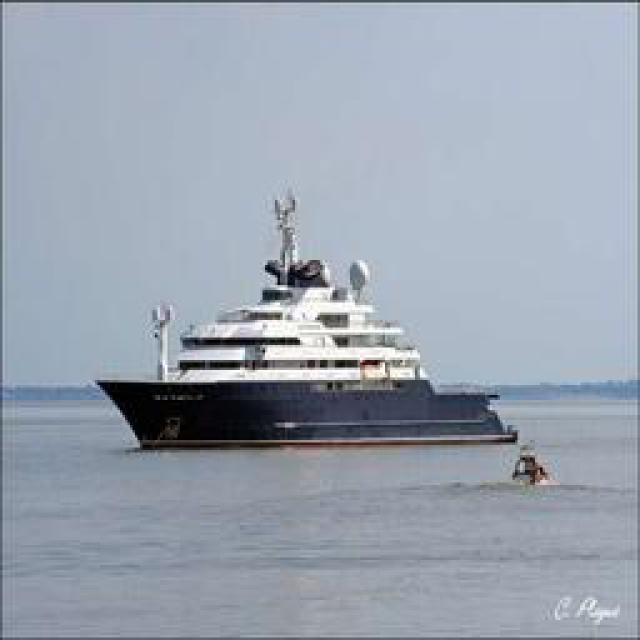Ship: (90, 205, 523, 453)
